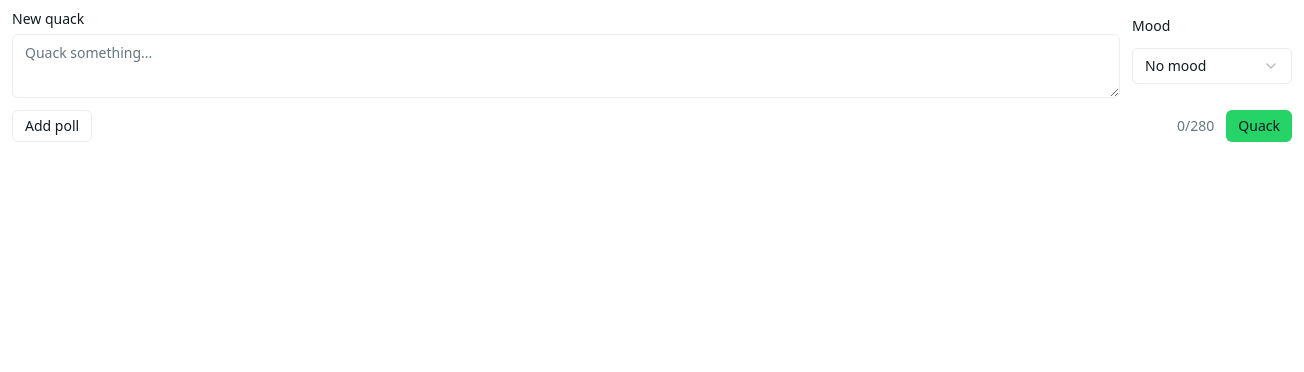
Scenario: QuackForm › poll › shows two answers and a poll length of 1 day
This screenshot has width=1304, height=372.
Click the button "Add poll" at (52, 126), box [12,110,92,142]
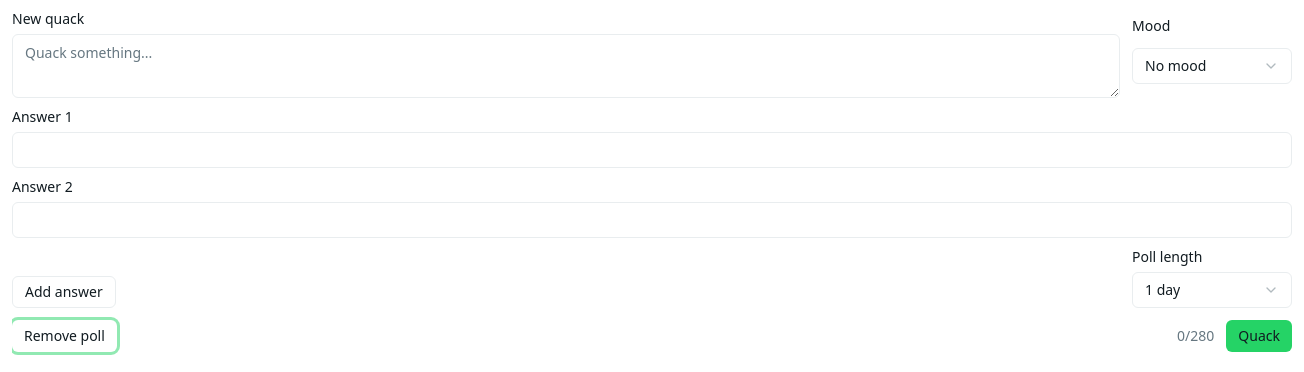
Expected: the dropdown named "Poll length" reads "1 day", [1132,272,1292,308]
